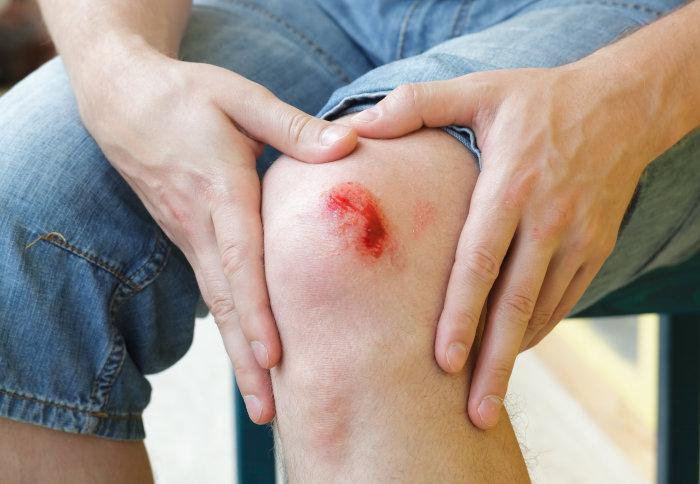Fire: (324, 182, 392, 258)
